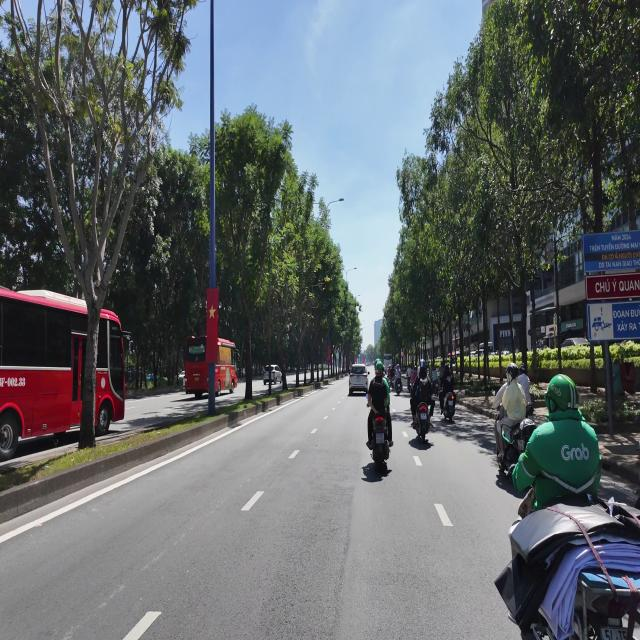car: (349, 364, 368, 395), (271, 365, 282, 384)
motorcycle: (499, 418, 535, 477), (370, 414, 390, 473), (416, 402, 430, 442), (443, 392, 456, 421), (394, 377, 402, 395)
